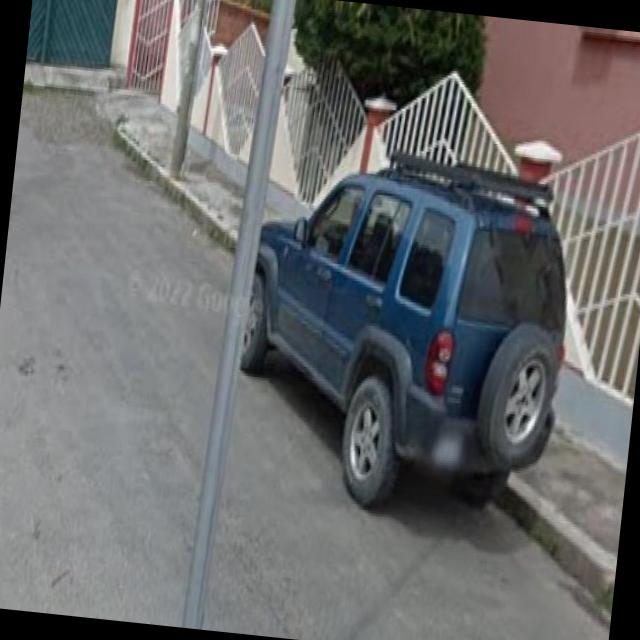car: (233, 83, 593, 529)
